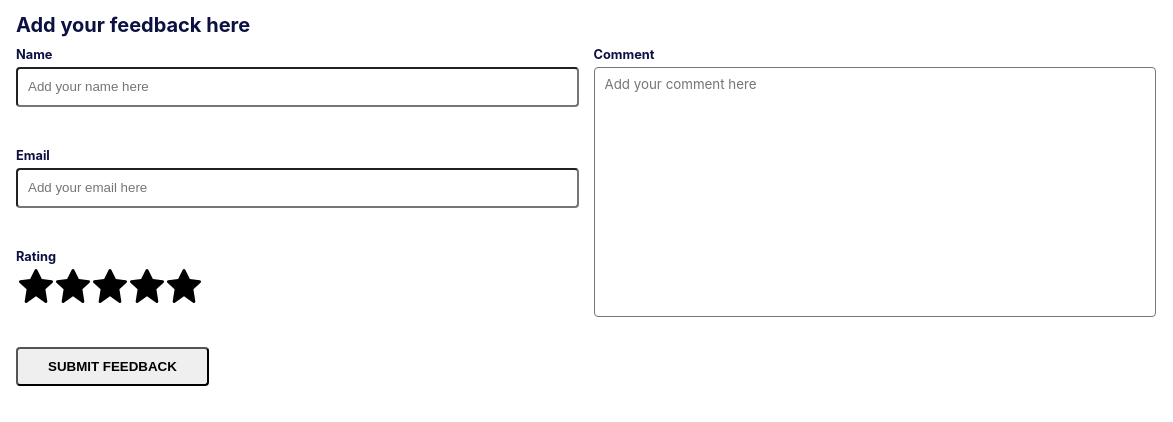
Test: Feedback Form › has all fields required before submission
The image size is (1173, 422).
Click the button "Submit Feedback". click: coordinates (112, 366)
box: [16,347,209,386]
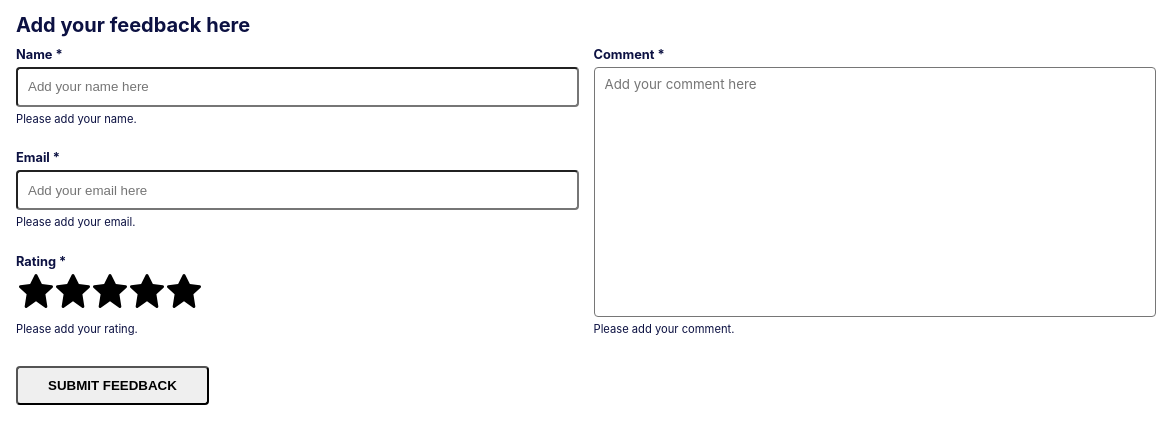
Now the text "Please add your name." is shown, box [16,112,137,126]
Now the text "Please add your email." is shown, box [16,215,136,229]
Now the text "Please add your comment." is shown, box [594,322,734,336]
